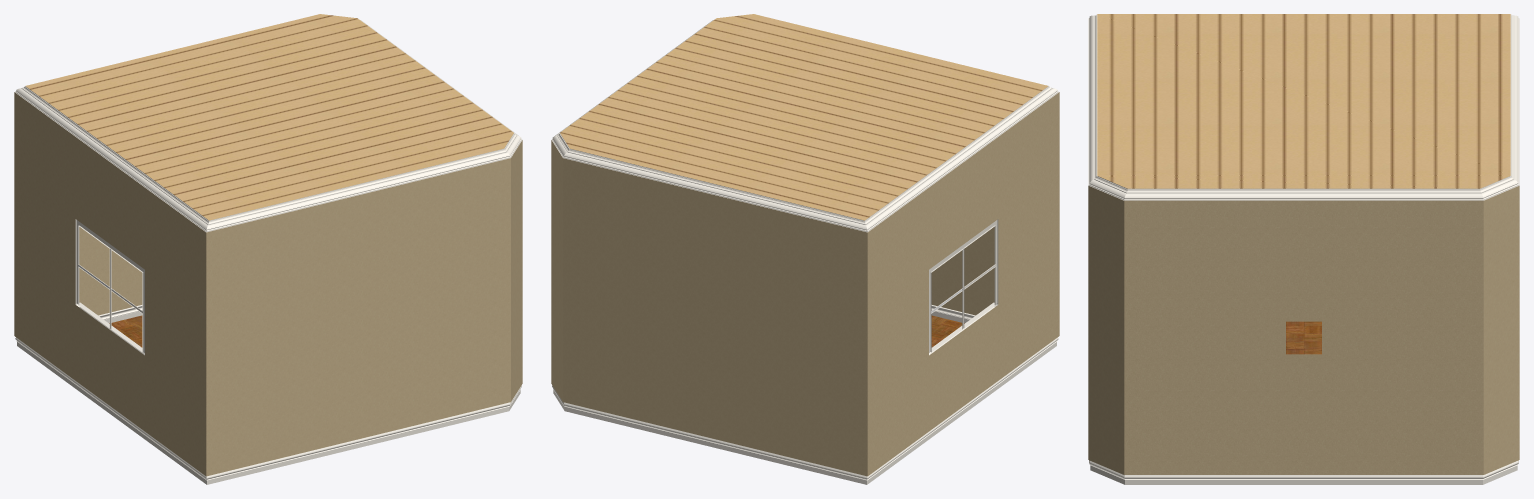
The model's file is resume-house.obj.
The picture shows the model from 3 angles, left to right: view 1: azimuth 30°, elevation 25°; view 2: azimuth 150°, elevation 25°; view 3: azimuth 270°, elevation 25°; orthographic projection. The views are drawn at different scales.
Visible parts, largest first — view 1: Mesh1 Model; view 2: Mesh1 Model; view 3: Mesh1 Model.
Part boxes in pixels (x1,y1,x2,y2): Mesh1 Model: (14, 14, 522, 484); Mesh1 Model: (551, 14, 1059, 484); Mesh1 Model: (1088, 14, 1519, 484).
Bounding box in the file's own units: 3.66 × 2.74 × 3.66.
Materials: 5 (3 with a texture image).
